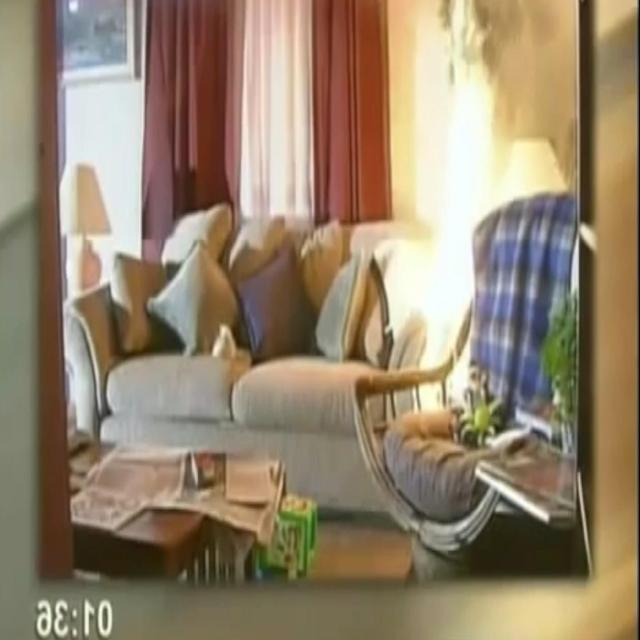smoke: (404, 0, 526, 419)
